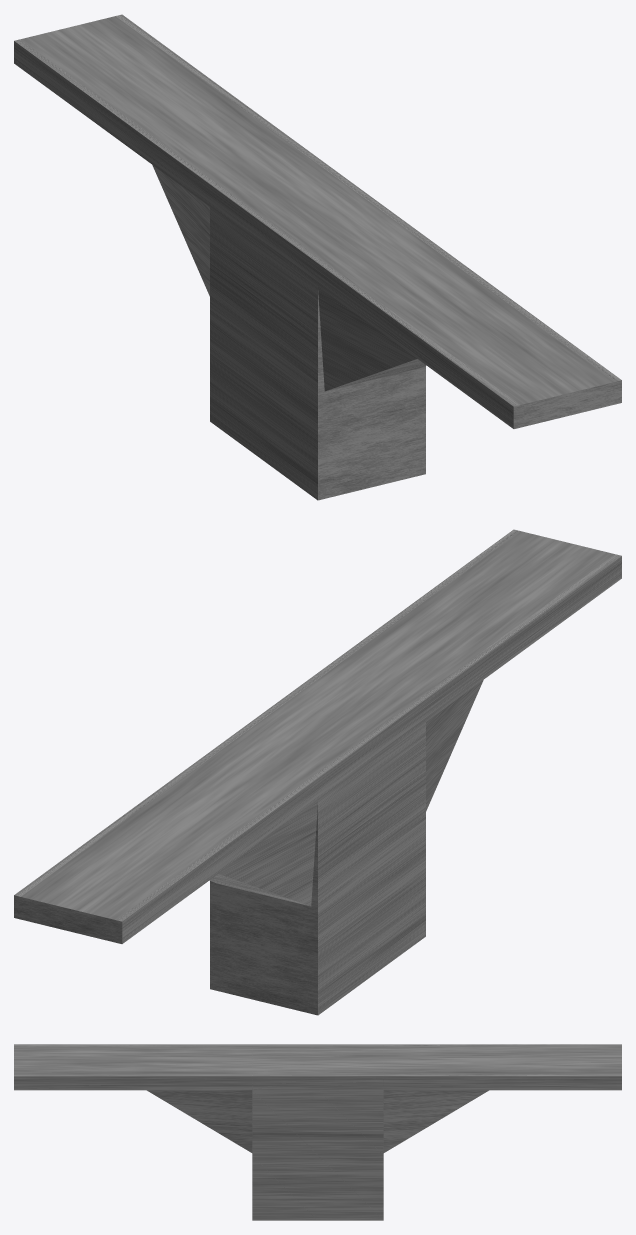
Rendered from Bridge.obj.
The picture shows the model from 3 angles, top to bottom: view 1: azimuth 30°, elevation 25°; view 2: azimuth 150°, elevation 25°; view 3: azimuth 270°, elevation 25°; orthographic projection. The views are drawn at different scales.
Visible parts, largest first — view 1: Cube; view 2: Cube; view 3: Cube.
Part boxes in pixels (x1=…): Cube: x1=14, y1=14, x2=621, y2=500; Cube: x1=14, y1=529, x2=621, y2=1015; Cube: x1=14, y1=1044, x2=621, y2=1220.
Size of the model in its own units: 0.5 by 1.05 by 4.
1 material, 1 textured.
